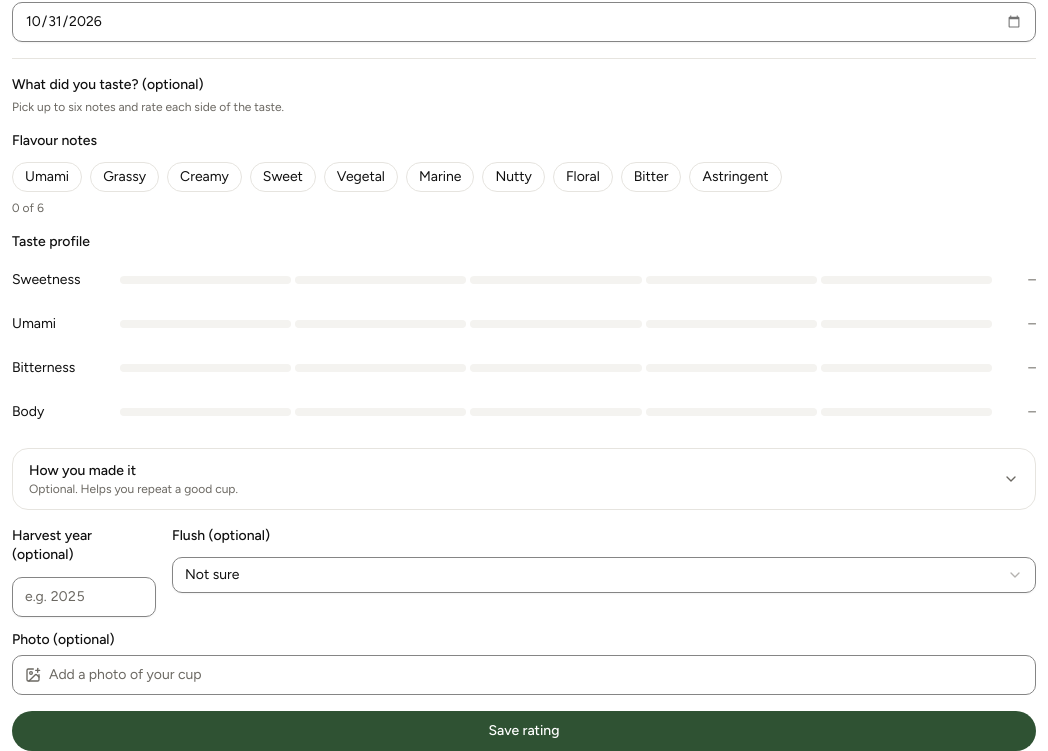
RateProductForm, signed in › requires a star rating
The width and height of the screenshot is (1048, 751).
(page scrolled)
Click the button "Save rating": (524, 730) [12, 710, 1036, 750]
(page scrolled)
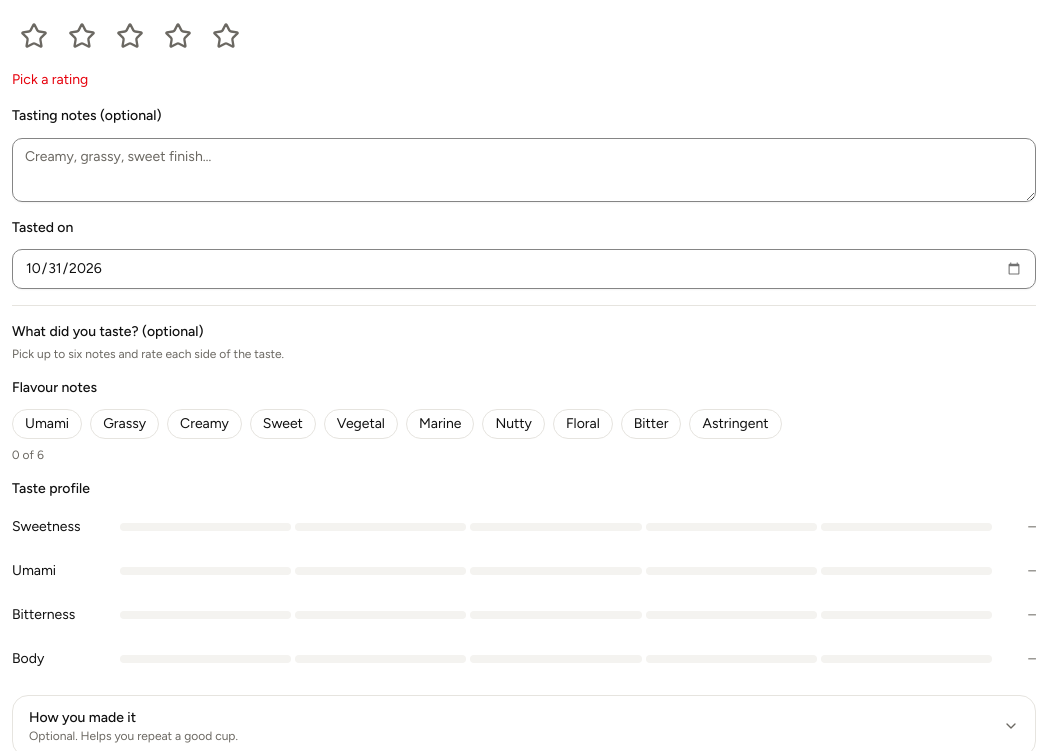
Expected: the text "Pick a rating" is shown, [12, 71, 88, 88]
